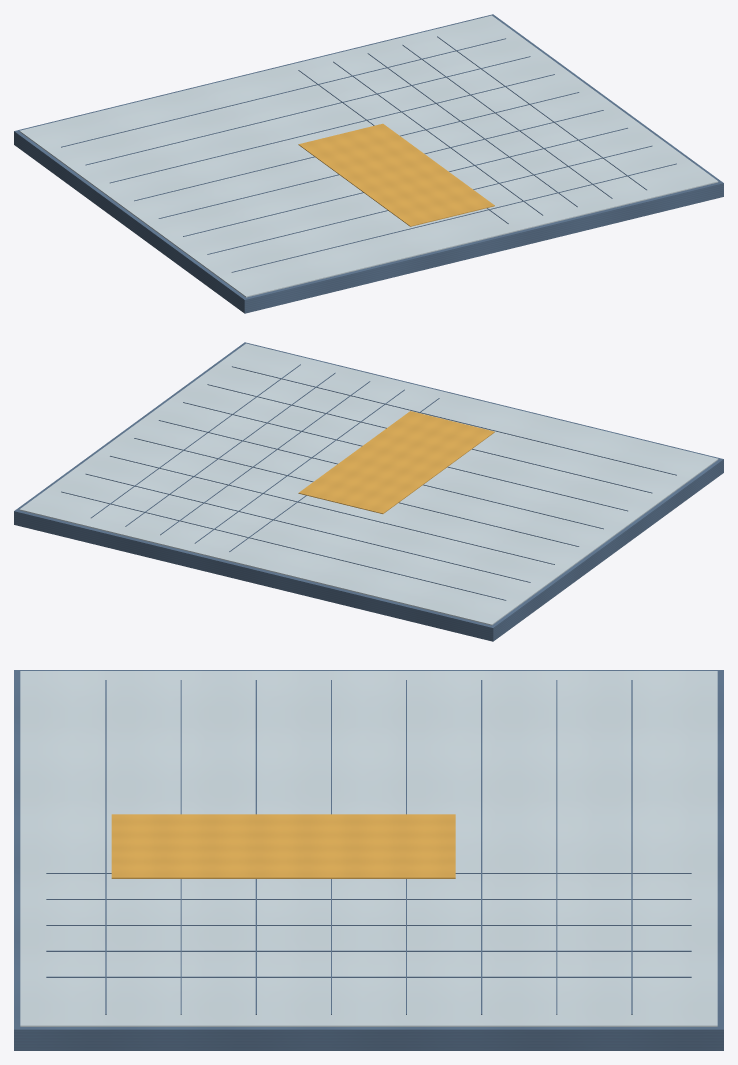
Rendered from atlas100-s052-a07.lod2.glb.
The picture shows the model from 3 angles, top to bottom: view 1: azimuth 30°, elevation 25°; view 2: azimuth 150°, elevation 25°; view 3: azimuth 270°, elevation 25°; orthographic projection. The views are drawn at different scales.
Parts seen in each view (by area): view 1: atlas100-s052-a07:part-001, atlas100-s052-a07:part-000, atlas100-s052-a07:part-021, atlas100-s052-a07:part-020, atlas100-s052-a07:part-014, atlas100-s052-a07:part-013, atlas100-s052-a07:part-015, atlas100-s052-a07:part-016, atlas100-s052-a07:part-018, atlas100-s052-a07:part-019, atlas100-s052-a07:part-017; view 2: atlas100-s052-a07:part-001, atlas100-s052-a07:part-000, atlas100-s052-a07:part-021, atlas100-s052-a07:part-013, atlas100-s052-a07:part-014, atlas100-s052-a07:part-015, atlas100-s052-a07:part-020, atlas100-s052-a07:part-017, atlas100-s052-a07:part-019, atlas100-s052-a07:part-018, atlas100-s052-a07:part-016; view 3: atlas100-s052-a07:part-001, atlas100-s052-a07:part-000, atlas100-s052-a07:part-021, atlas100-s052-a07:part-011, atlas100-s052-a07:part-012, atlas100-s052-a07:part-013, atlas100-s052-a07:part-014, atlas100-s052-a07:part-015, atlas100-s052-a07:part-020, atlas100-s052-a07:part-010, atlas100-s052-a07:part-009.
Part boxes in pixels (box(x1,y1,x2,y2)): atlas100-s052-a07:part-001: box(19, 15, 718, 297); atlas100-s052-a07:part-000: box(14, 14, 723, 313); atlas100-s052-a07:part-021: box(298, 123, 494, 226); atlas100-s052-a07:part-020: box(231, 163, 676, 272); atlas100-s052-a07:part-014: box(85, 56, 530, 165); atlas100-s052-a07:part-013: box(61, 38, 505, 147); atlas100-s052-a07:part-015: box(110, 74, 554, 183); atlas100-s052-a07:part-016: box(134, 92, 579, 201); atlas100-s052-a07:part-018: box(183, 127, 627, 236); atlas100-s052-a07:part-019: box(207, 145, 652, 254); atlas100-s052-a07:part-017: box(158, 110, 603, 218); atlas100-s052-a07:part-001: box(19, 343, 718, 625); atlas100-s052-a07:part-000: box(14, 342, 723, 641); atlas100-s052-a07:part-021: box(298, 411, 494, 513); atlas100-s052-a07:part-013: box(61, 491, 506, 600); atlas100-s052-a07:part-014: box(85, 473, 530, 582); atlas100-s052-a07:part-015: box(110, 455, 554, 564); atlas100-s052-a07:part-020: box(232, 366, 676, 475); atlas100-s052-a07:part-017: box(158, 420, 603, 529); atlas100-s052-a07:part-019: box(207, 384, 652, 493); atlas100-s052-a07:part-018: box(183, 402, 627, 511); atlas100-s052-a07:part-016: box(134, 438, 579, 546); atlas100-s052-a07:part-001: box(20, 671, 717, 1026); atlas100-s052-a07:part-000: box(14, 670, 723, 1050); atlas100-s052-a07:part-021: box(111, 814, 455, 878); atlas100-s052-a07:part-011: box(46, 950, 691, 951); atlas100-s052-a07:part-012: box(46, 976, 691, 977); atlas100-s052-a07:part-013: box(631, 680, 632, 1014); atlas100-s052-a07:part-014: box(556, 680, 557, 1014); atlas100-s052-a07:part-015: box(481, 680, 482, 1014); atlas100-s052-a07:part-020: box(105, 680, 106, 1014); atlas100-s052-a07:part-010: box(46, 925, 691, 925); atlas100-s052-a07:part-009: box(46, 899, 691, 899).
Size of the model in its own units: 12.46 by 0.404 by 10.4.
Materials: 3 (3 with a texture image).
